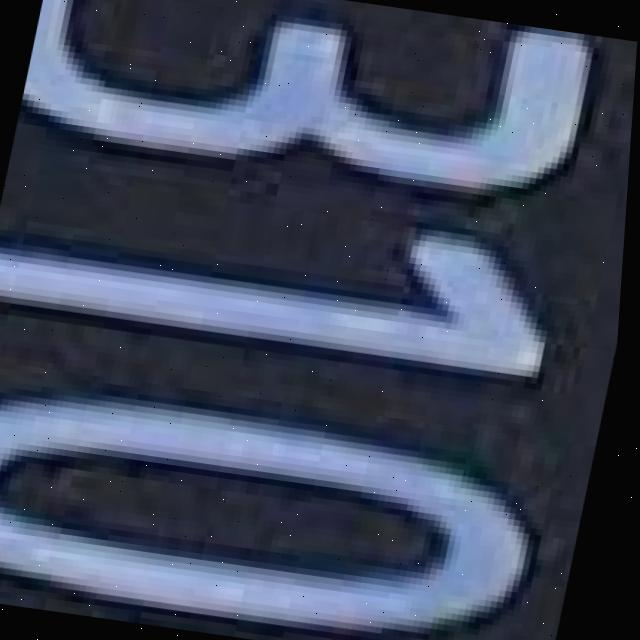character: (0, 363, 564, 640), (0, 158, 589, 410), (9, 0, 616, 214)
